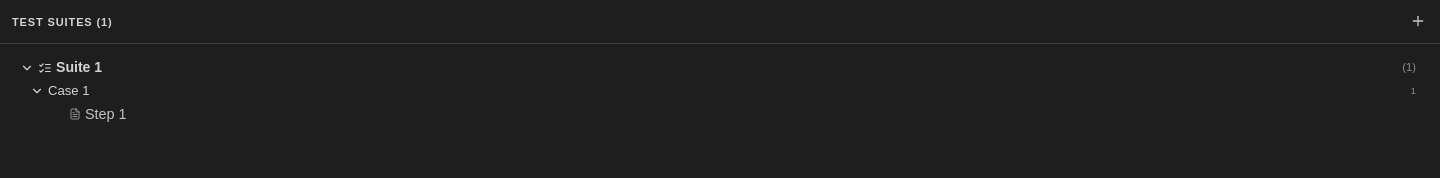
TestsUi right-click import/export menu › without the file handlers the rail renders no Import / Export section
The image size is (1440, 178).
Right-click the text "Suite 1" at {"x": 79, "y": 67}, box x1=56 y1=59 x2=102 y2=75
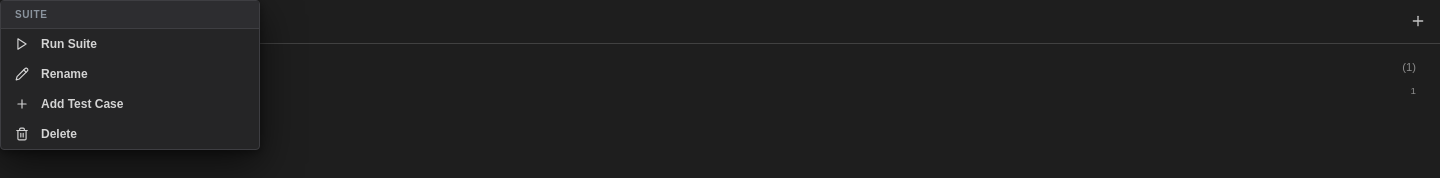
Check: the text "Rename" is shown, box x1=41 y1=67 x2=88 y2=81
Check: the text "Delete" is shown, box x1=41 y1=127 x2=77 y2=141
